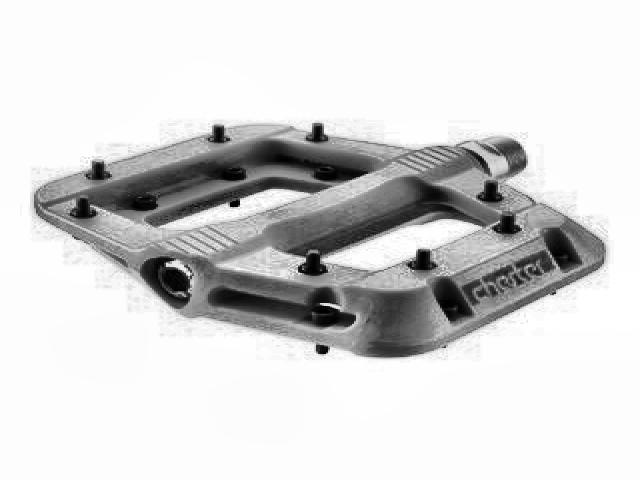pedal: (28, 115, 613, 369)
